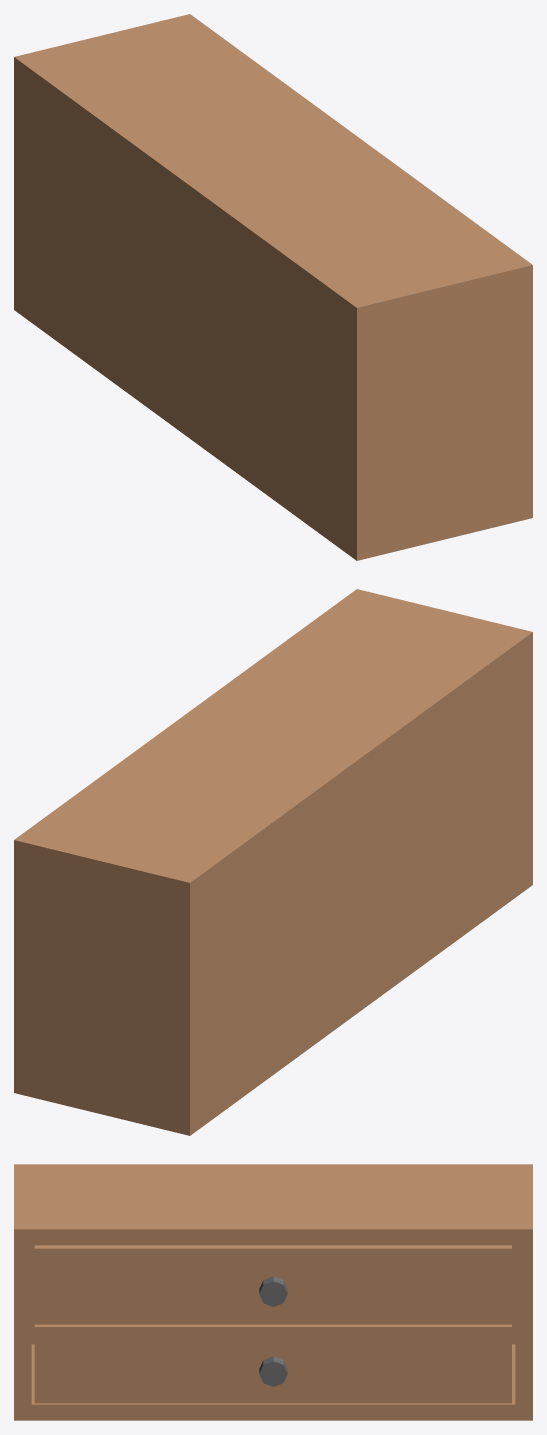
The model's file is PR_Dresser.fbx.
3 renders of one model, top to bottom at view 1: azimuth 30°, elevation 25°; view 2: azimuth 150°, elevation 25°; view 3: azimuth 270°, elevation 25°, orthographic. The views are drawn at different scales.
Visible parts, largest first — view 1: Cube.008; view 2: Cube.008; view 3: Cube.008, Cube.014, Cube.009.
Boxes of the visible parts, box(x1,y1,x2,y2) form: Cube.008: box(14, 14, 532, 560); Cube.008: box(14, 589, 532, 1135); Cube.008: box(14, 1164, 532, 1420); Cube.014: box(34, 1245, 511, 1324); Cube.009: box(34, 1324, 511, 1403).
Size of the model in its own units: 51.41 by 63.33 by 156.
